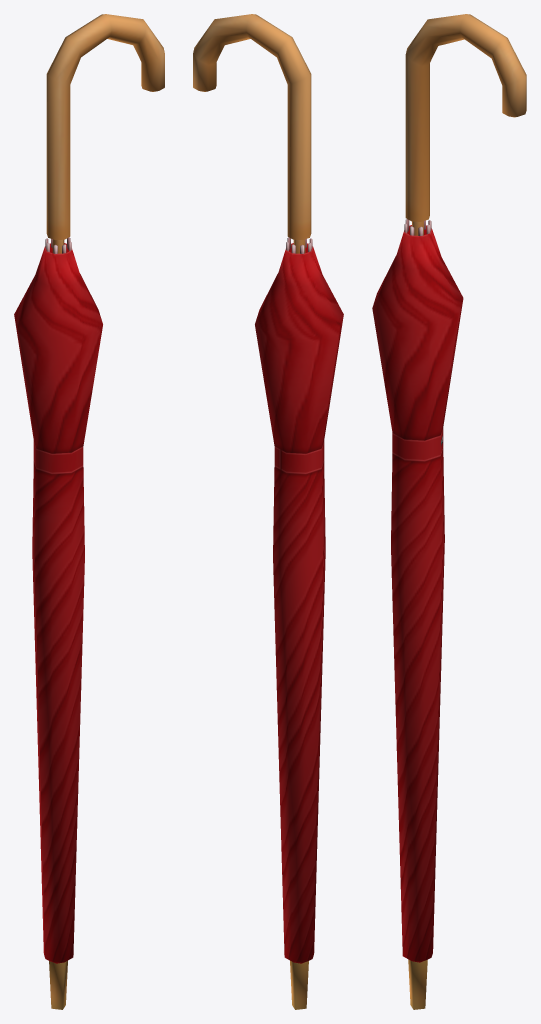
File: set_umbrella_11.fbx
3 renders of one model, left to right at view 1: azimuth 30°, elevation 25°; view 2: azimuth 150°, elevation 25°; view 3: azimuth 330°, elevation 25°, orthographic. The views are drawn at different scales.
Parts seen in each view (by area): view 1: set_umbrella_11; view 2: set_umbrella_11; view 3: set_umbrella_11.
Part boxes in pixels (<box>): set_umbrella_11: <box>14,14,164,1009</box>; set_umbrella_11: <box>193,14,343,1009</box>; set_umbrella_11: <box>372,14,526,1009</box>.
Size of the model in its own units: 12.79 by 82.9 by 7.05.
